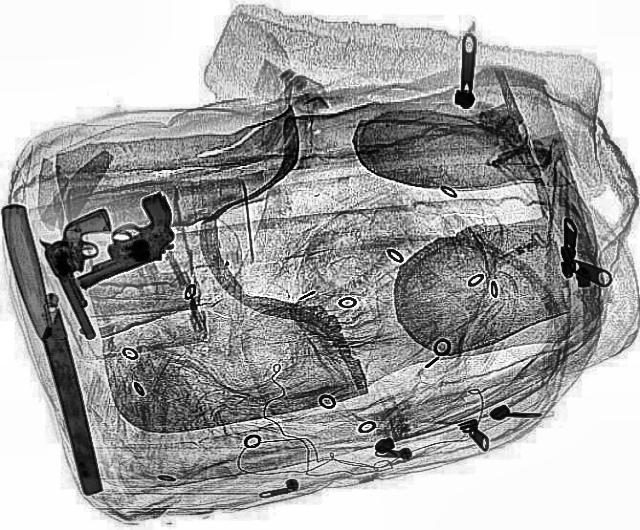Gun: (31, 207, 156, 341), (44, 190, 198, 290)
Knife: (0, 214, 110, 496)
